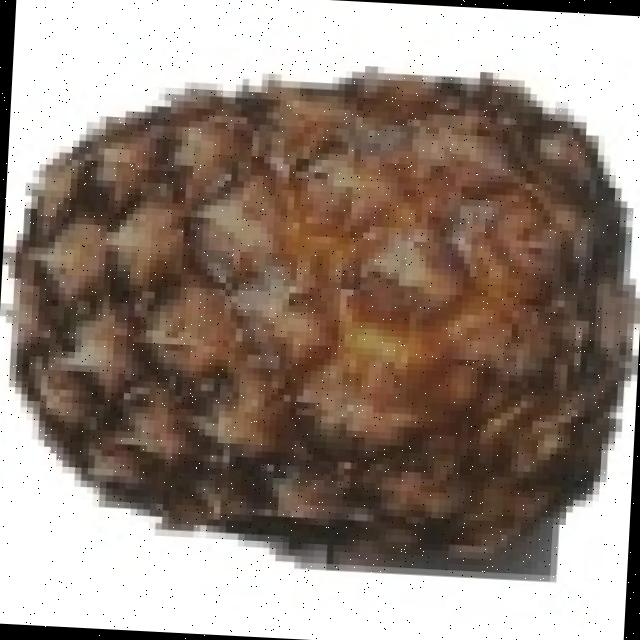pineapple: (10, 65, 615, 546)
